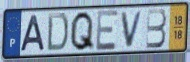A: (19, 14, 46, 53)
B: (145, 7, 168, 50)
D: (46, 12, 70, 53)
E: (95, 9, 120, 52)
Q: (68, 10, 96, 53)
V: (120, 10, 145, 49)
